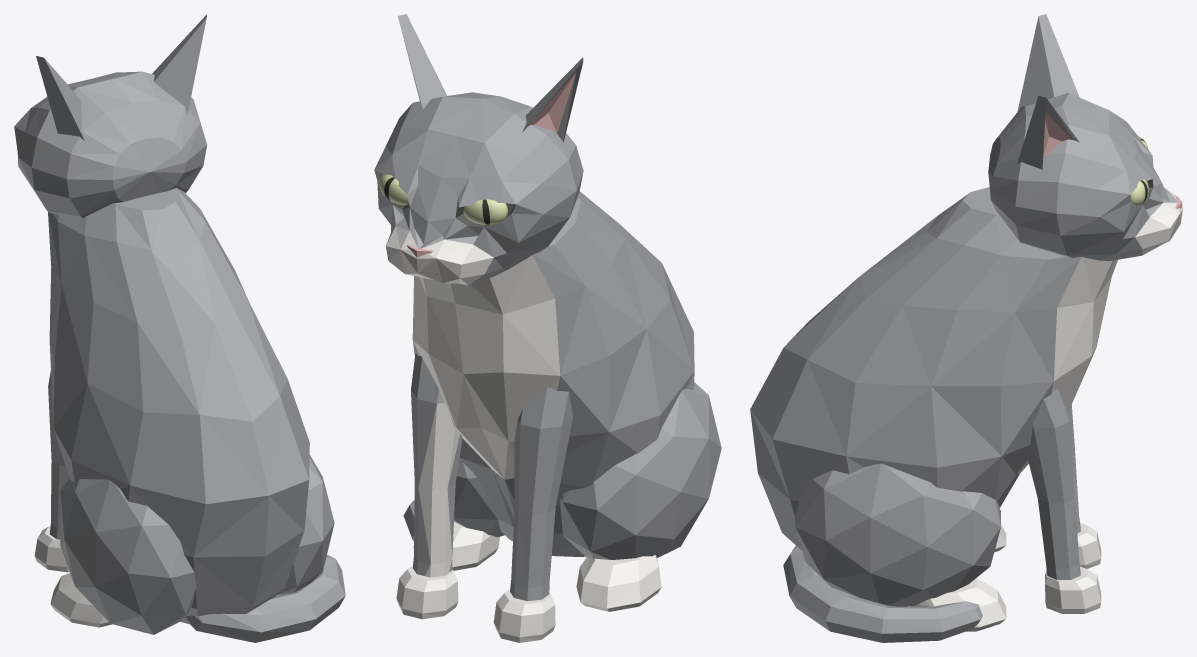
File: cat_fit_r4.glb
3 renders of one model, left to right at view 1: azimuth 30°, elevation 25°; view 2: azimuth 150°, elevation 25°; view 3: azimuth 270°, elevation 25°, orthographic. The views are drawn at different scales.
Visible parts, largest first — view 1: Rounded_Torso_MASTER, Sculpted_Head_MASTER, Haunch_Right_MASTER, Curled_tail_MASTER, Haunch_Left_MASTER, Thick_Ear_Left_MASTER, Thick_Ear_Right_MASTER, Hind_paw_Right_MASTER, Foreleg_Right_MASTER, Front_paw_Right_MASTER; view 2: Rounded_Torso_MASTER, Sculpted_Head_MASTER, Haunch_Right_MASTER, Foreleg_Right_MASTER, Foreleg_Left_MASTER, Hind_paw_Right_MASTER, Front_paw_Right_MASTER, Front_paw_Left_MASTER, Haunch_Left_MASTER, Thick_Ear_Right_MASTER, Thick_Ear_Left_MASTER, Hind_paw_Left_MASTER (+2 smaller); view 3: Rounded_Torso_MASTER, Haunch_Left_MASTER, Sculpted_Head_MASTER, Curled_tail_MASTER, Foreleg_Left_MASTER, Thick_Ear_Right_MASTER, Thick_Ear_Left_MASTER, Front_paw_Left_MASTER, Hind_paw_Left_MASTER, Front_paw_Right_MASTER.
Boxes of the visible parts, bbox=[...] form: Rounded_Torso_MASTER: bbox=[48, 188, 309, 624]; Sculpted_Head_MASTER: bbox=[14, 71, 206, 218]; Haunch_Right_MASTER: bbox=[60, 478, 196, 634]; Curled_tail_MASTER: bbox=[184, 554, 345, 642]; Haunch_Left_MASTER: bbox=[277, 455, 334, 594]; Thick_Ear_Left_MASTER: bbox=[152, 14, 206, 114]; Thick_Ear_Right_MASTER: bbox=[36, 56, 84, 140]; Hind_paw_Right_MASTER: bbox=[50, 573, 111, 627]; Foreleg_Right_MASTER: bbox=[48, 370, 69, 539]; Front_paw_Right_MASTER: bbox=[34, 526, 69, 572]; Rounded_Torso_MASTER: bbox=[412, 191, 694, 556]; Sculpted_Head_MASTER: bbox=[374, 92, 583, 285]; Haunch_Right_MASTER: bbox=[560, 382, 721, 559]; Foreleg_Right_MASTER: bbox=[510, 387, 572, 600]; Foreleg_Left_MASTER: bbox=[411, 353, 462, 577]; Hind_paw_Right_MASTER: bbox=[576, 555, 661, 611]; Front_paw_Right_MASTER: bbox=[493, 589, 555, 642]; Front_paw_Left_MASTER: bbox=[396, 565, 458, 619]; Haunch_Left_MASTER: bbox=[454, 460, 504, 537]; Thick_Ear_Right_MASTER: bbox=[522, 57, 583, 141]; Thick_Ear_Left_MASTER: bbox=[398, 14, 446, 109]; Hind_paw_Left_MASTER: bbox=[413, 522, 499, 570]; Rounded_Torso_MASTER: bbox=[750, 187, 1117, 550]; Haunch_Left_MASTER: bbox=[795, 463, 1000, 606]; Sculpted_Head_MASTER: bbox=[988, 93, 1182, 261]; Curled_tail_MASTER: bbox=[783, 545, 982, 642]; Foreleg_Left_MASTER: bbox=[1026, 388, 1080, 579]; Thick_Ear_Right_MASTER: bbox=[1017, 14, 1079, 111]; Thick_Ear_Left_MASTER: bbox=[1017, 95, 1079, 169]; Front_paw_Left_MASTER: bbox=[1045, 566, 1101, 613]; Hind_paw_Left_MASTER: bbox=[910, 578, 1006, 631]; Front_paw_Right_MASTER: bbox=[1077, 522, 1101, 568].
Size of the model in its own units: 0.0762 by 0.15 by 0.1118.
